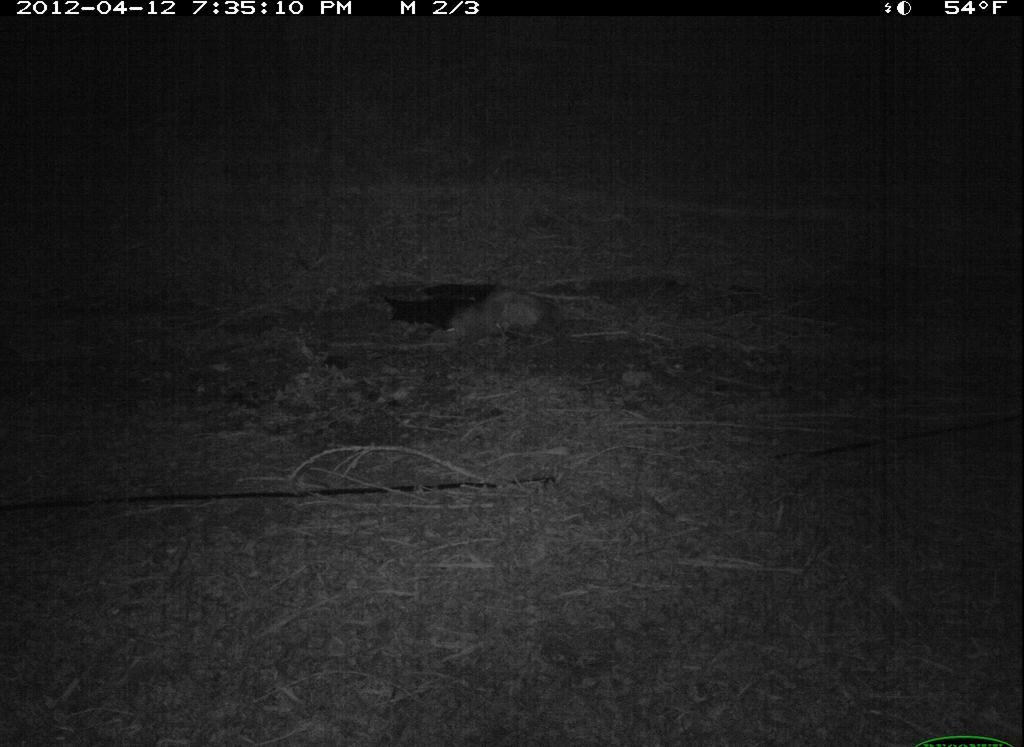opossum: (433, 271, 591, 374)
